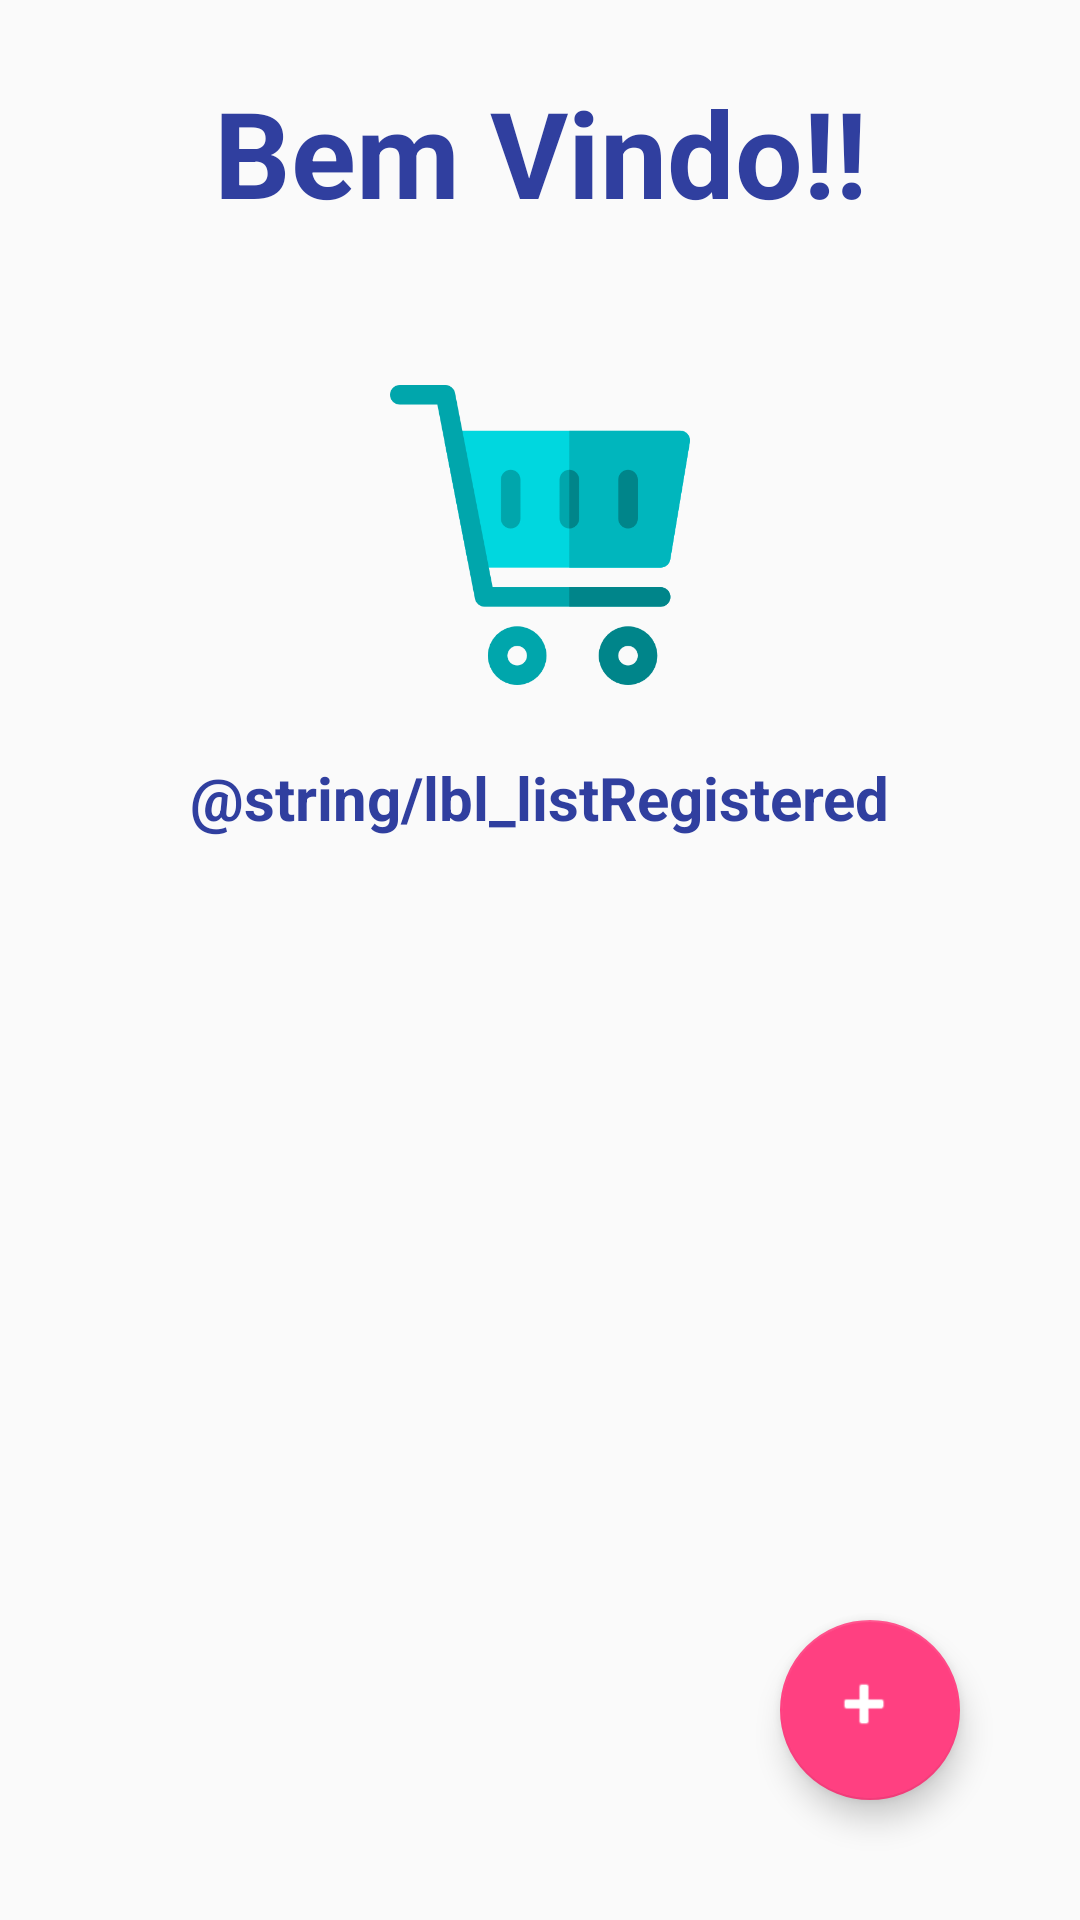

Where to tap for icons on this 1080w x 1920h app screen, as (x=x, y=y):
add: (x=870, y=1710)
carrinho compra: (x=540, y=535)
